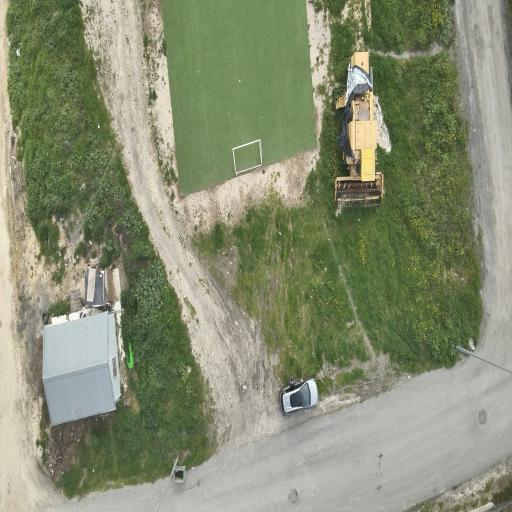car: (279, 377, 316, 414)
harvester: (334, 51, 382, 209)
